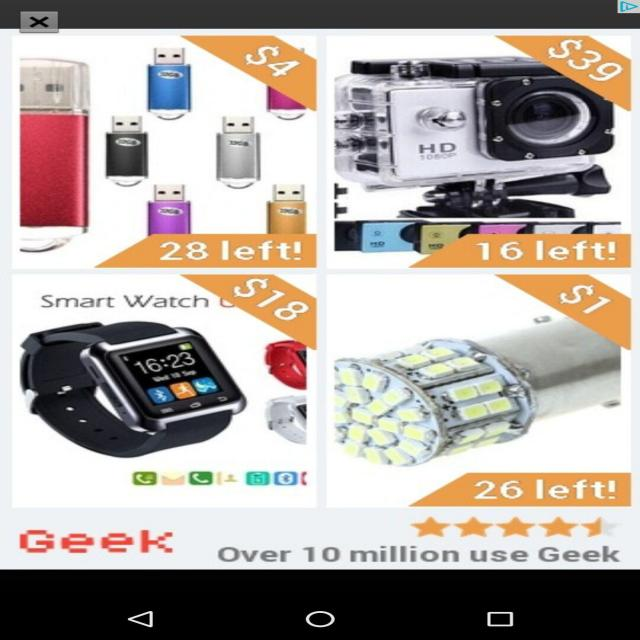button: (17, 8, 82, 39)
image: (15, 38, 327, 277), (17, 281, 310, 513), (345, 276, 638, 507), (336, 42, 619, 260), (6, 520, 638, 572)
